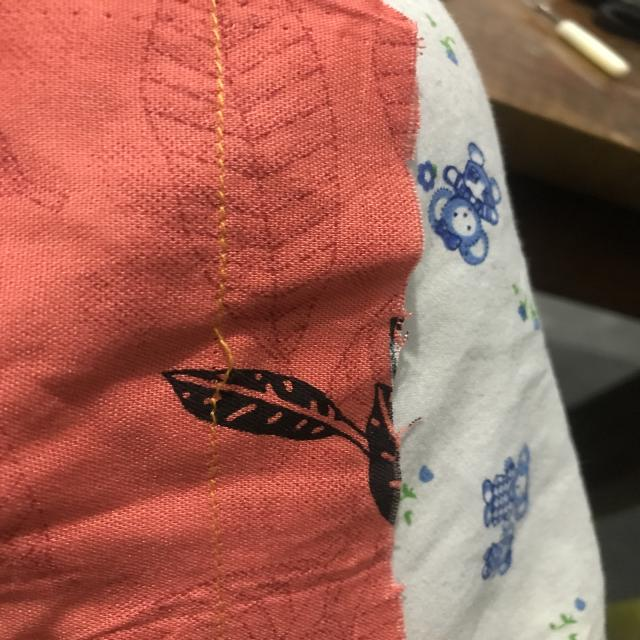skip: (202, 319, 244, 411)
